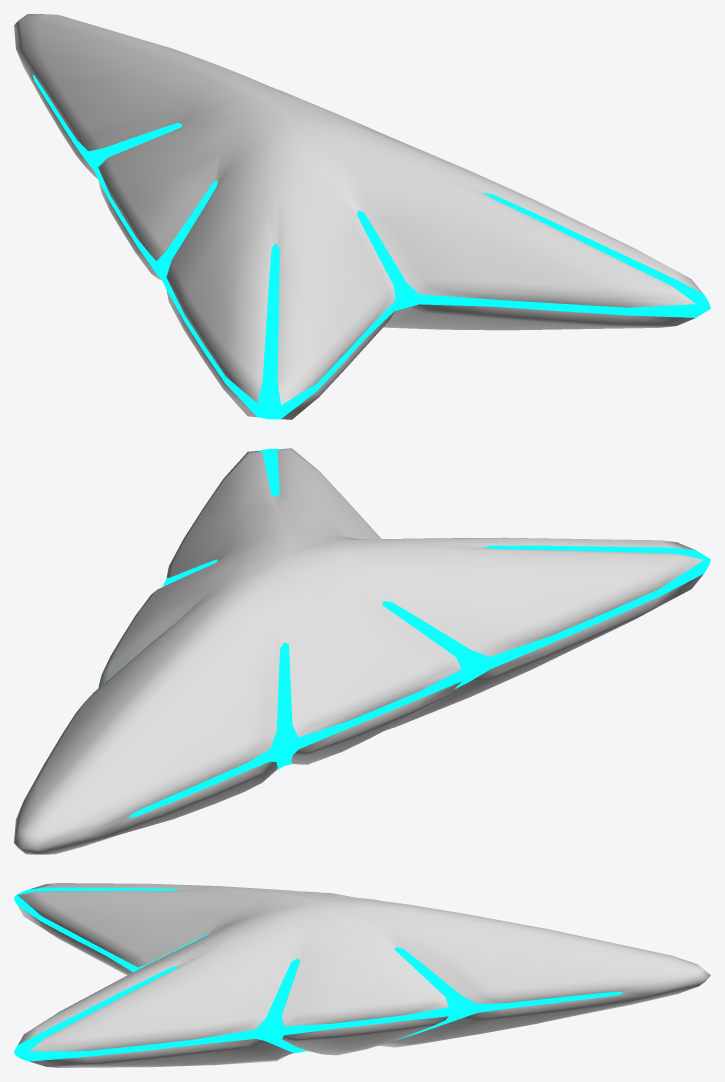
Rendered from Nave STAR MESH.glb.
3 renders of one model, top to bottom at view 1: azimuth 30°, elevation 25°; view 2: azimuth 150°, elevation 25°; view 3: azimuth 270°, elevation 25°, orthographic. The views are drawn at different scales.
Parts seen in each view (by area): view 1: ✅ NAVE STAR A Small.001 Subdivided NEW 4.5m 2 ILUMINADA NOVA; view 2: ✅ NAVE STAR A Small.001 Subdivided NEW 4.5m 2 ILUMINADA NOVA; view 3: ✅ NAVE STAR A Small.001 Subdivided NEW 4.5m 2 ILUMINADA NOVA.
Part boxes in pixels (x1,y1,x2,y2): ✅ NAVE STAR A Small.001 Subdivided NEW 4.5m 2 ILUMINADA NOVA: (14,14,710,419); ✅ NAVE STAR A Small.001 Subdivided NEW 4.5m 2 ILUMINADA NOVA: (14,448,710,854); ✅ NAVE STAR A Small.001 Subdivided NEW 4.5m 2 ILUMINADA NOVA: (14,883,710,1067).
Size of the model in its own units: 2.5 by 1 by 4.5.
